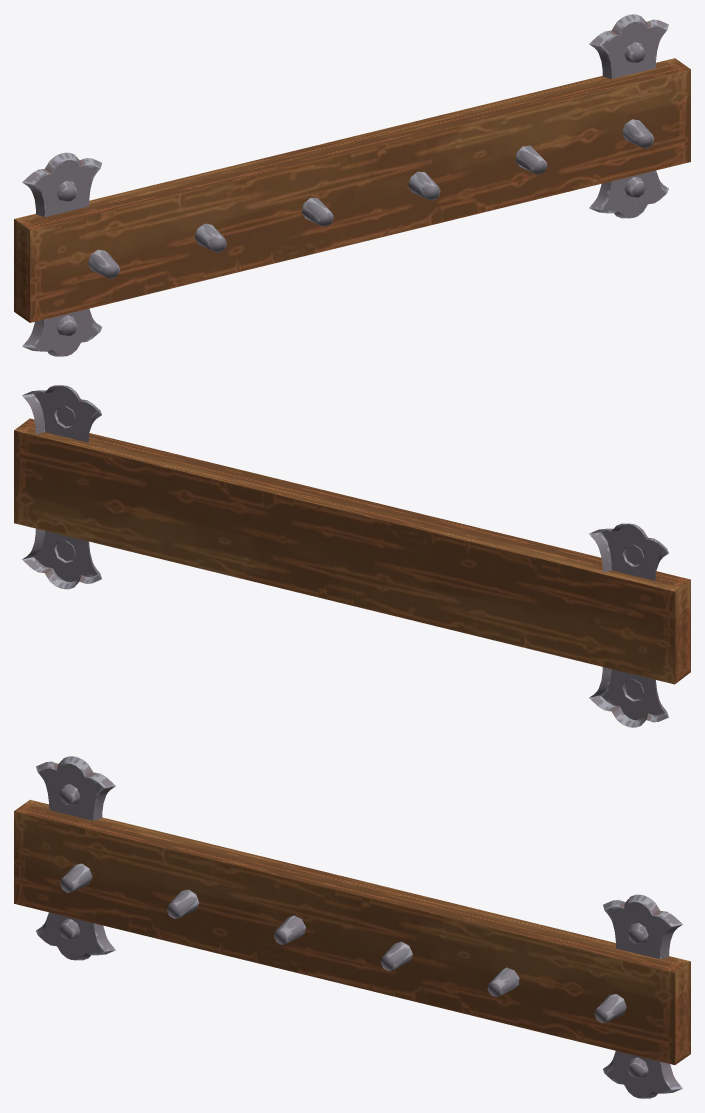
Rendered from Peg_Rack.glb.
The picture shows the model from 3 angles, top to bottom: view 1: azimuth 30°, elevation 25°; view 2: azimuth 150°, elevation 25°; view 3: azimuth 330°, elevation 25°; orthographic projection.
Visible parts, largest first — view 1: Peg_Rack; view 2: Peg_Rack; view 3: Peg_Rack.
Boxes of the visible parts, <box> form: Peg_Rack: <box>14,14,690,356</box>; Peg_Rack: <box>14,385,690,727</box>; Peg_Rack: <box>14,756,690,1098</box>.
Size of the model in its own units: 1.18 by 0.3479 by 0.0957.
Materials: 2 (2 with a texture image).
